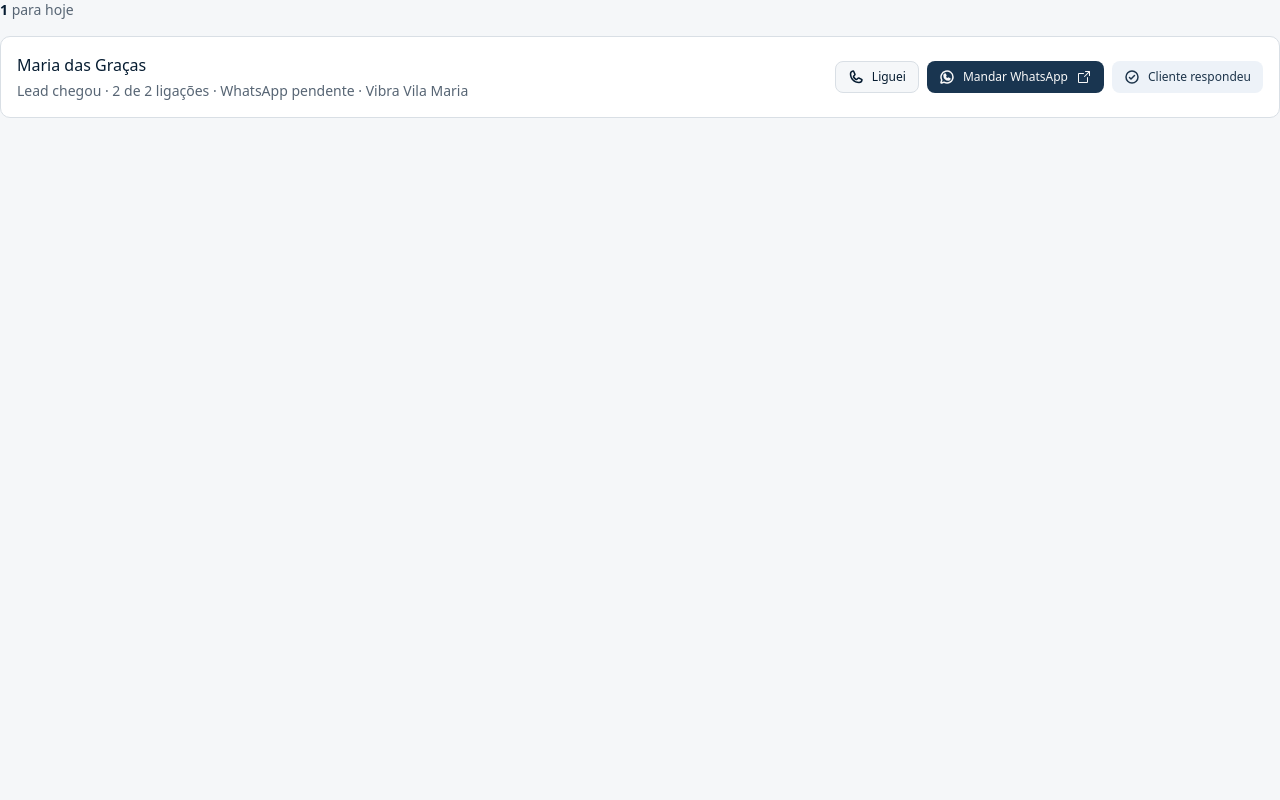
Test: Cliente respondeu: para onde o lead vai › no diálogo: lead fora desses status só sai da cadência
Click the button "Cliente respondeu". click: (1188, 77)
box: x1=1112 y1=61 x2=1263 y2=93
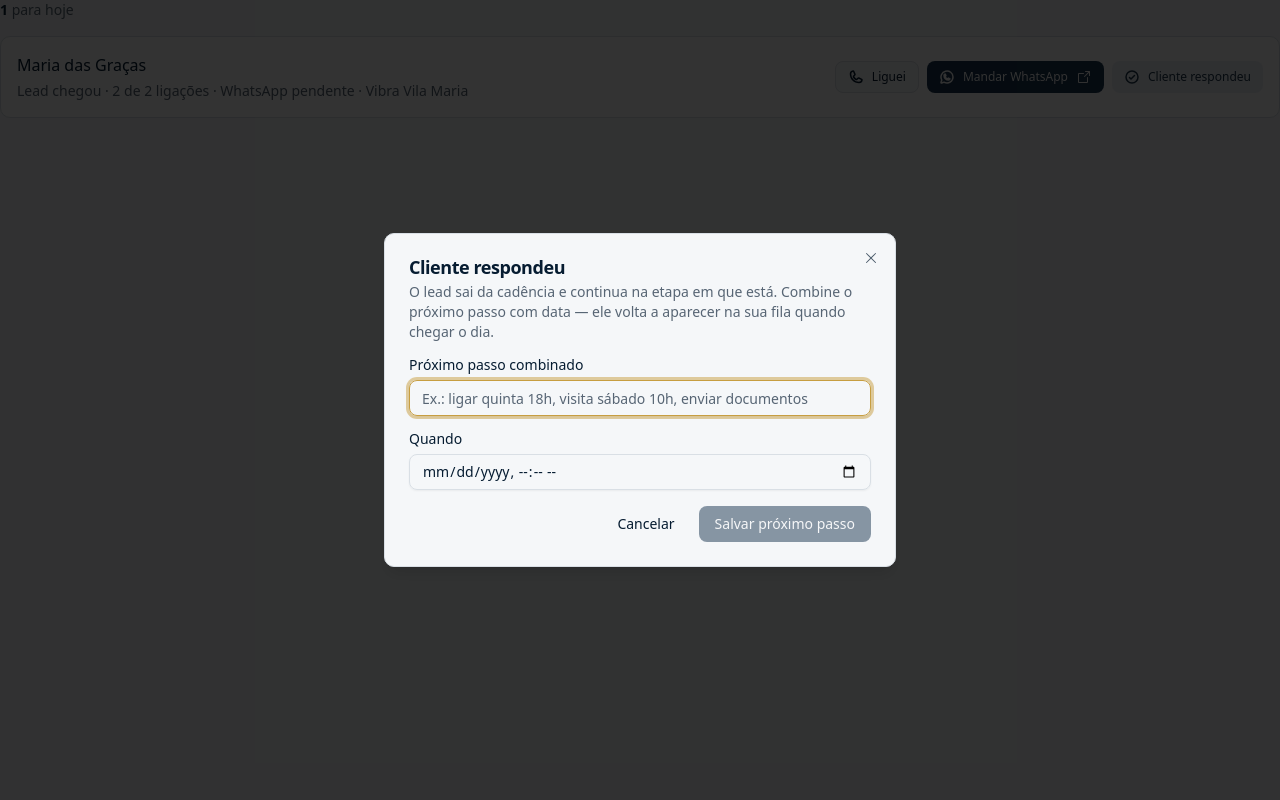
expect the dialog shows "O lead sai da cadência e continua na etapa em que está.": met, box x1=409 y1=282 x2=777 y2=301
expect the button "Salvar próximo passo" is shown: met, box x1=699 y1=506 x2=871 y2=542
